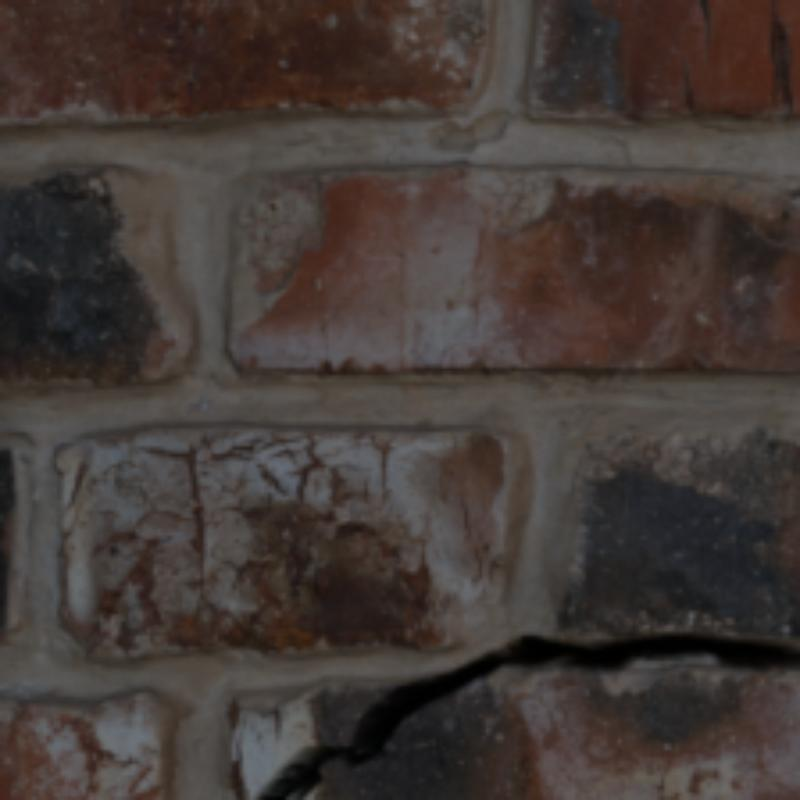crack: (261, 629, 796, 796)
